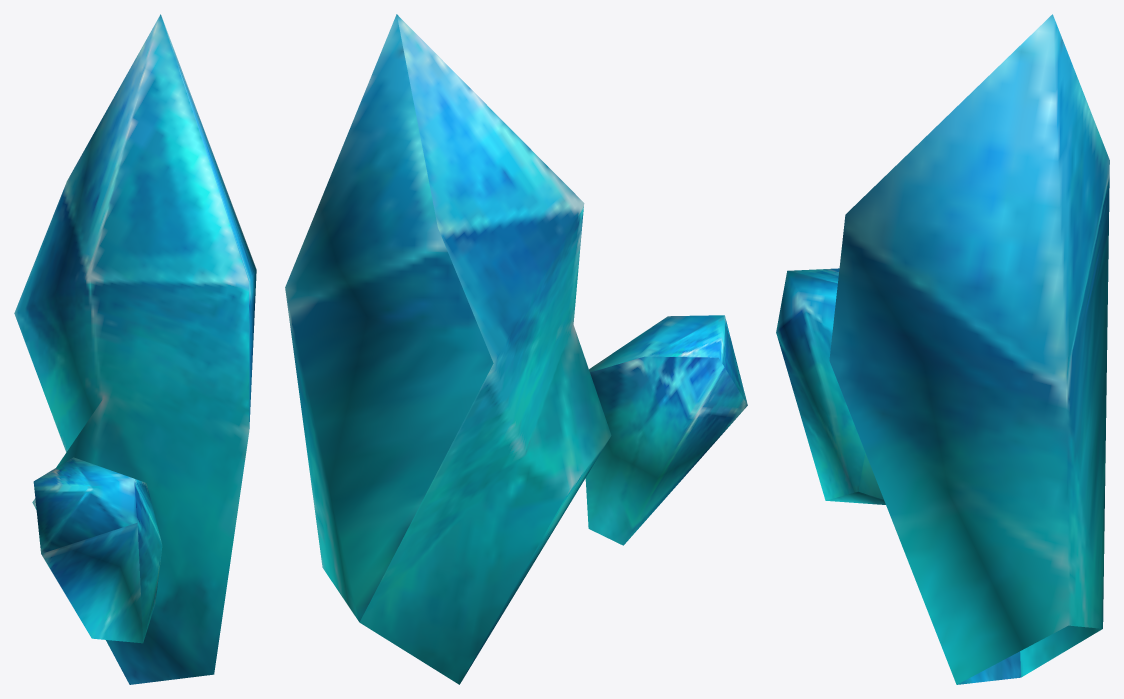
File: SM_crystal_10.fbx
3 renders of one model, left to right at view 1: azimuth 30°, elevation 25°; view 2: azimuth 150°, elevation 25°; view 3: azimuth 270°, elevation 25°, orthographic. The views are drawn at different scales.
Parts seen in each view (by area): view 1: SM_crystal_10; view 2: SM_crystal_10; view 3: SM_crystal_10.
Part boxes in pixels (left/top/right/bottom): SM_crystal_10: left=14, top=14, right=256, bottom=684; SM_crystal_10: left=285, top=14, right=747, bottom=684; SM_crystal_10: left=776, top=14, right=1109, bottom=684.
Size of the model in its own units: 0.8009 by 1.5 by 0.6589.
